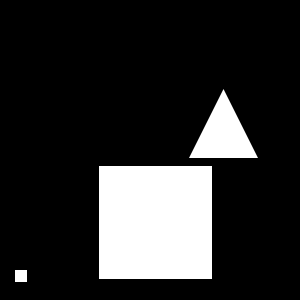circle: (99, 166, 212, 279), (15, 270, 27, 282)
triangle: (189, 89, 258, 158)
